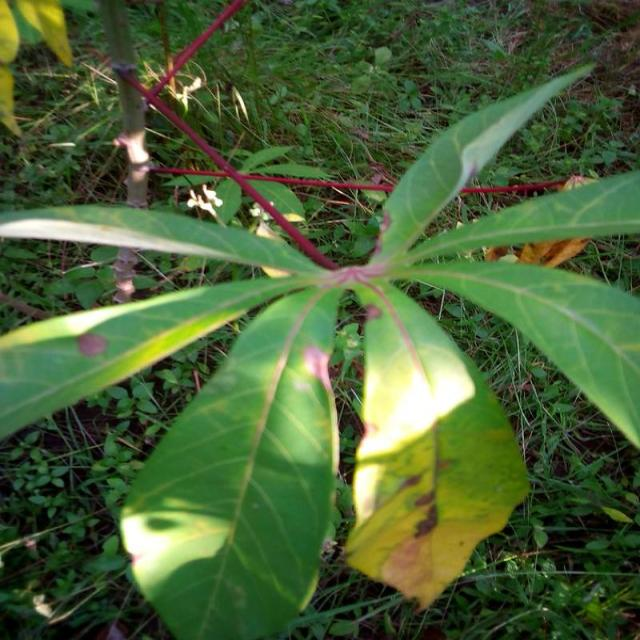cassava leaf: (2, 57, 640, 636), (120, 278, 342, 638), (344, 280, 532, 611)
